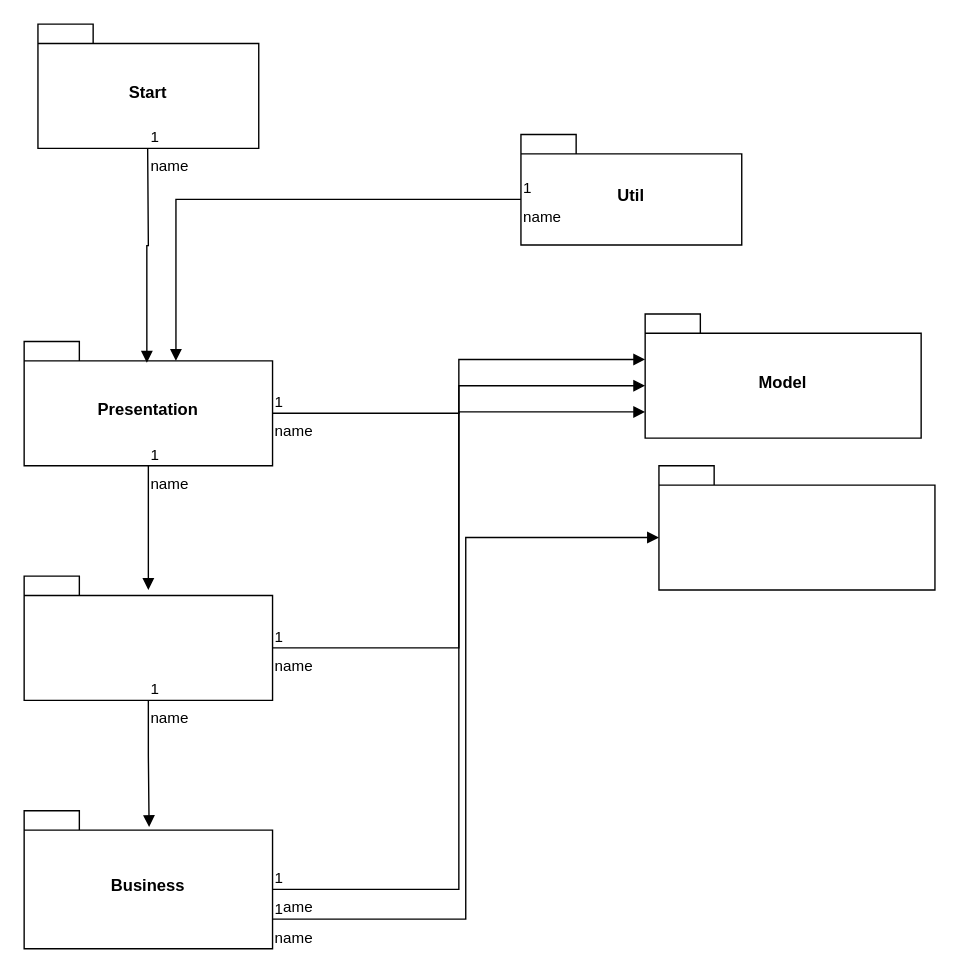
Image size: 959x973. Some labels were removed from this diagram. The box of each missing label's shape, as (x1, y1, x2, y2) in pixels:
Connection: (658, 464, 935, 590)
DataAcces: (23, 575, 273, 700)
